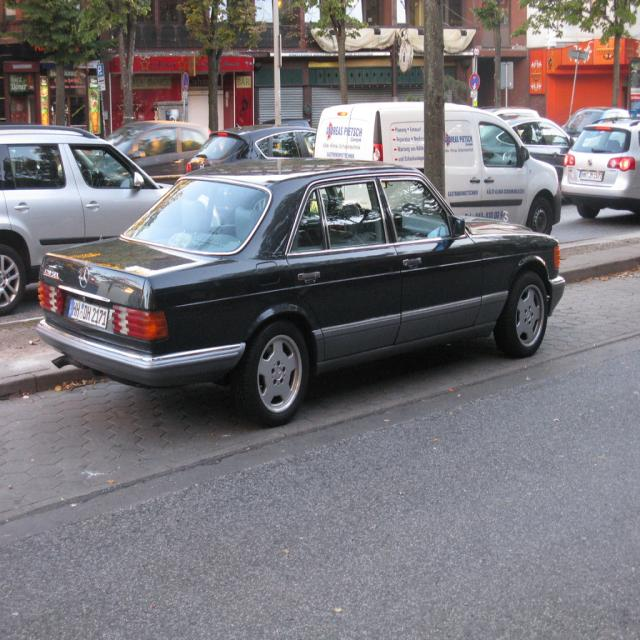car: (27, 157, 564, 426)
